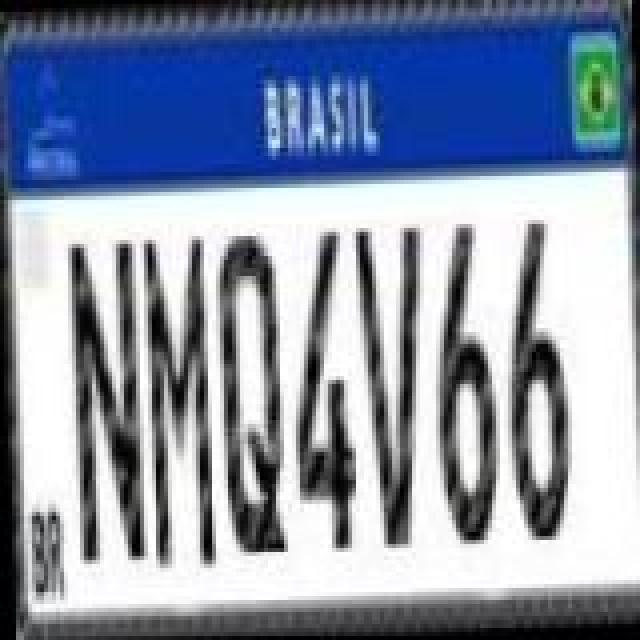4: (278, 220, 354, 548)
6: (422, 212, 498, 552), (494, 210, 570, 538)
M: (138, 234, 214, 574)
N: (64, 228, 144, 568)
Q: (214, 228, 290, 556)
V: (350, 216, 426, 556)
